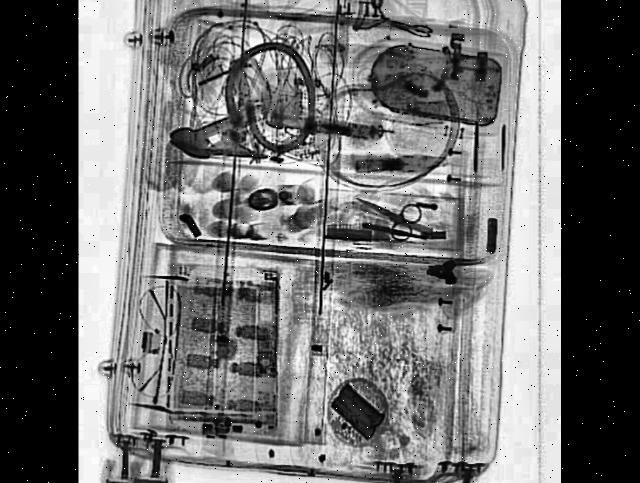Scissors: (351, 174, 424, 248)
